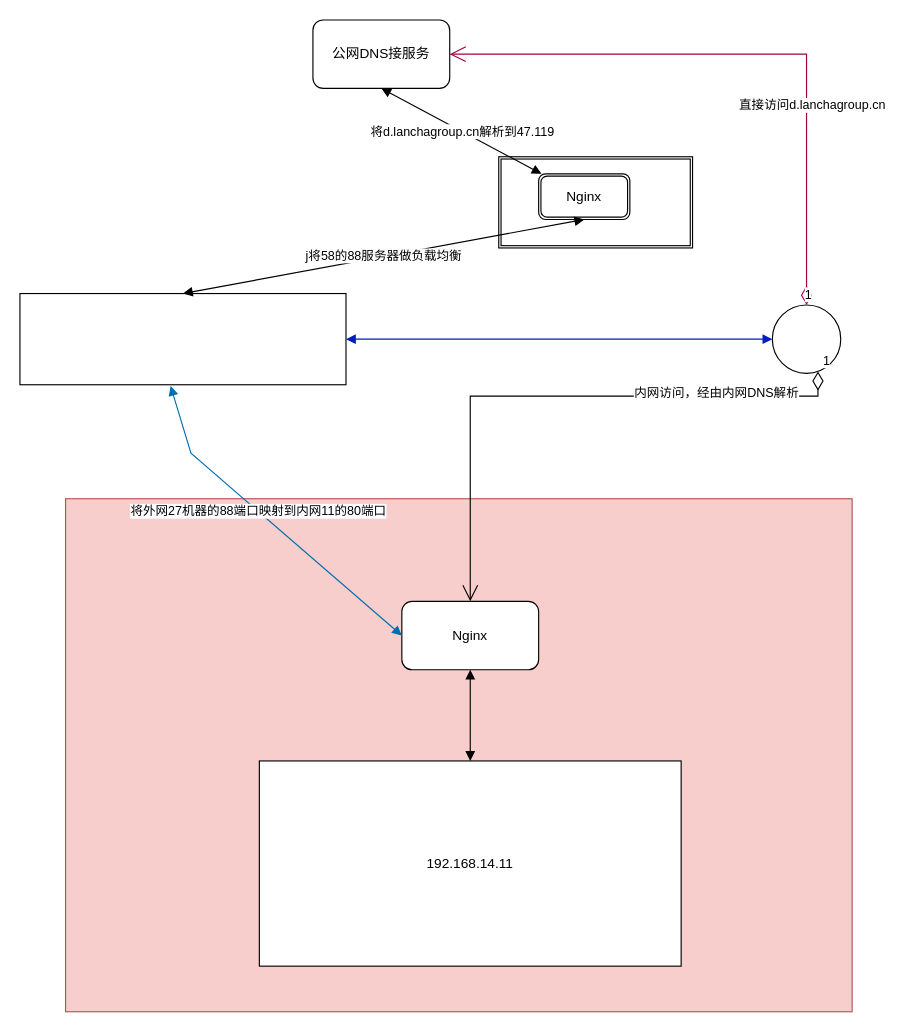
Some shapes in this 904 by 1032 pixel diagram are drawn without their labels. The box of each missing label's shape, as (x1, y1, x2, y2) in pixels:
58.23.243.27网关: (19, 292, 346, 385)
用户: (771, 304, 841, 373)
